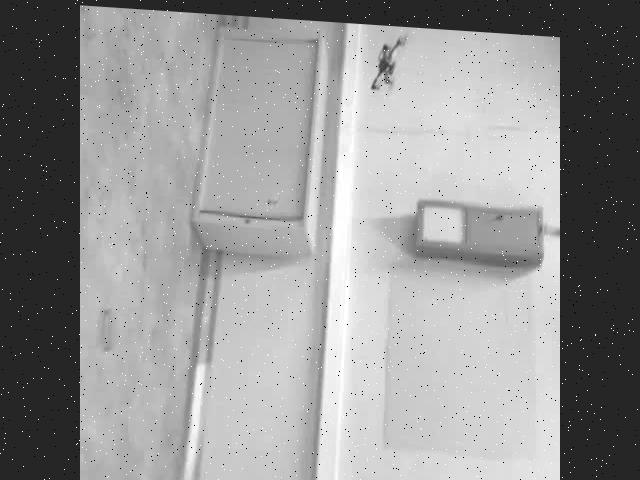drone: (370, 19, 410, 90)
